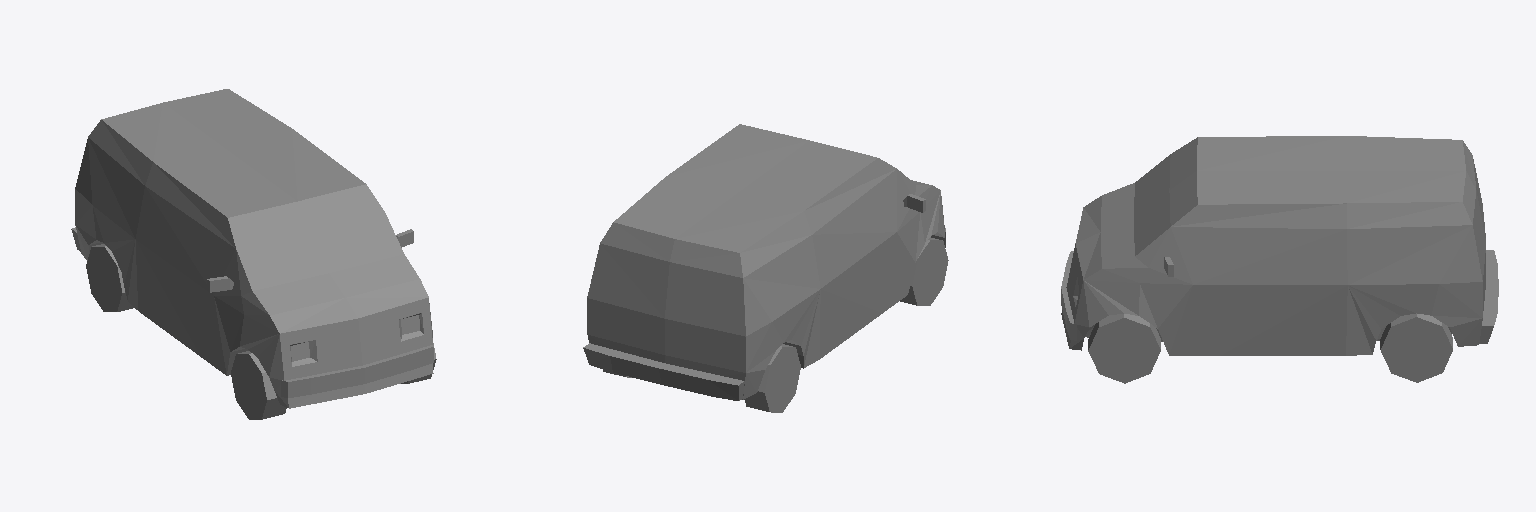
The model's file is Car4.obj.
3 views of the same model, side by side, from view 1: azimuth 30°, elevation 25°; view 2: azimuth 150°, elevation 25°; view 3: azimuth 270°, elevation 25° (orthographic).
Visible parts, largest first — view 1: Car4; view 2: Car4; view 3: Car4.
Part boxes in pixels (x1,y1,x2,y2): Car4: (71,89,436,419); Car4: (583,124,948,412); Car4: (1061,136,1498,383).
Size of the model in its own units: 3.4 by 2.74 by 6.3.